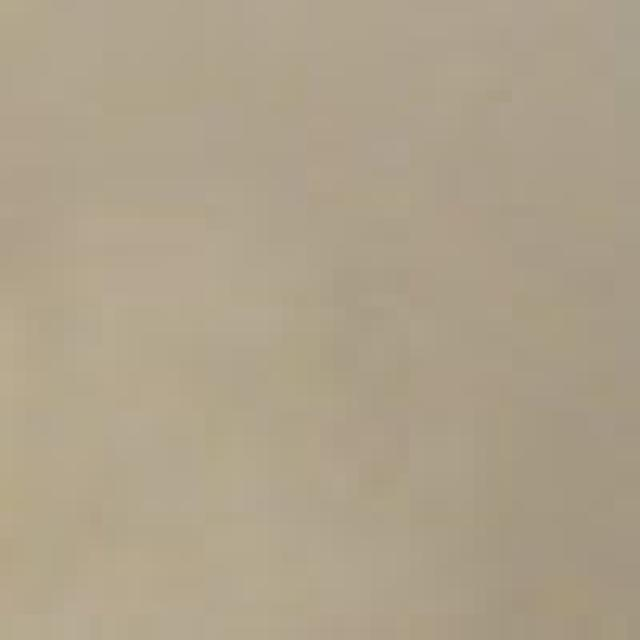no_fire: (16, 10, 640, 640)
